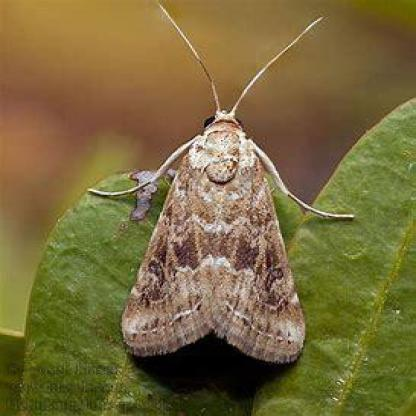Hellula undalis: (74, 5, 363, 374)
